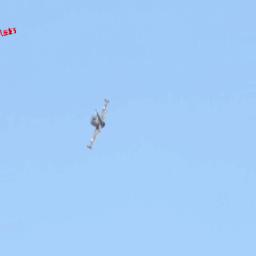Airplane: (86, 98, 110, 151)
